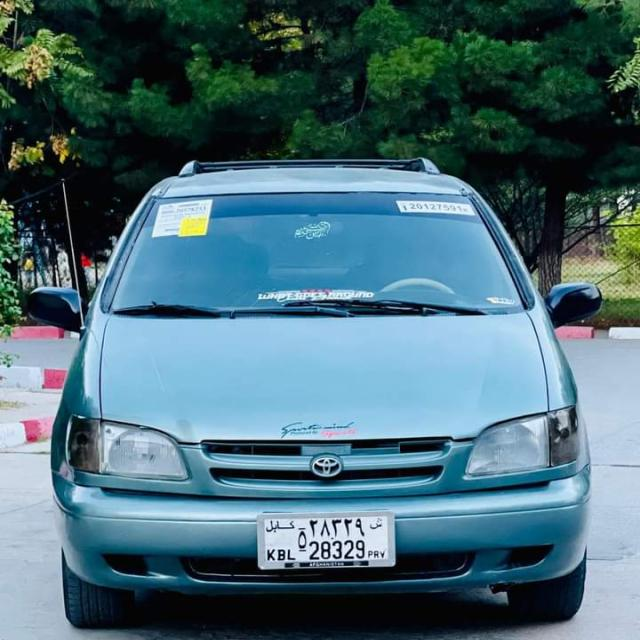Plate: (258, 511, 394, 569)
